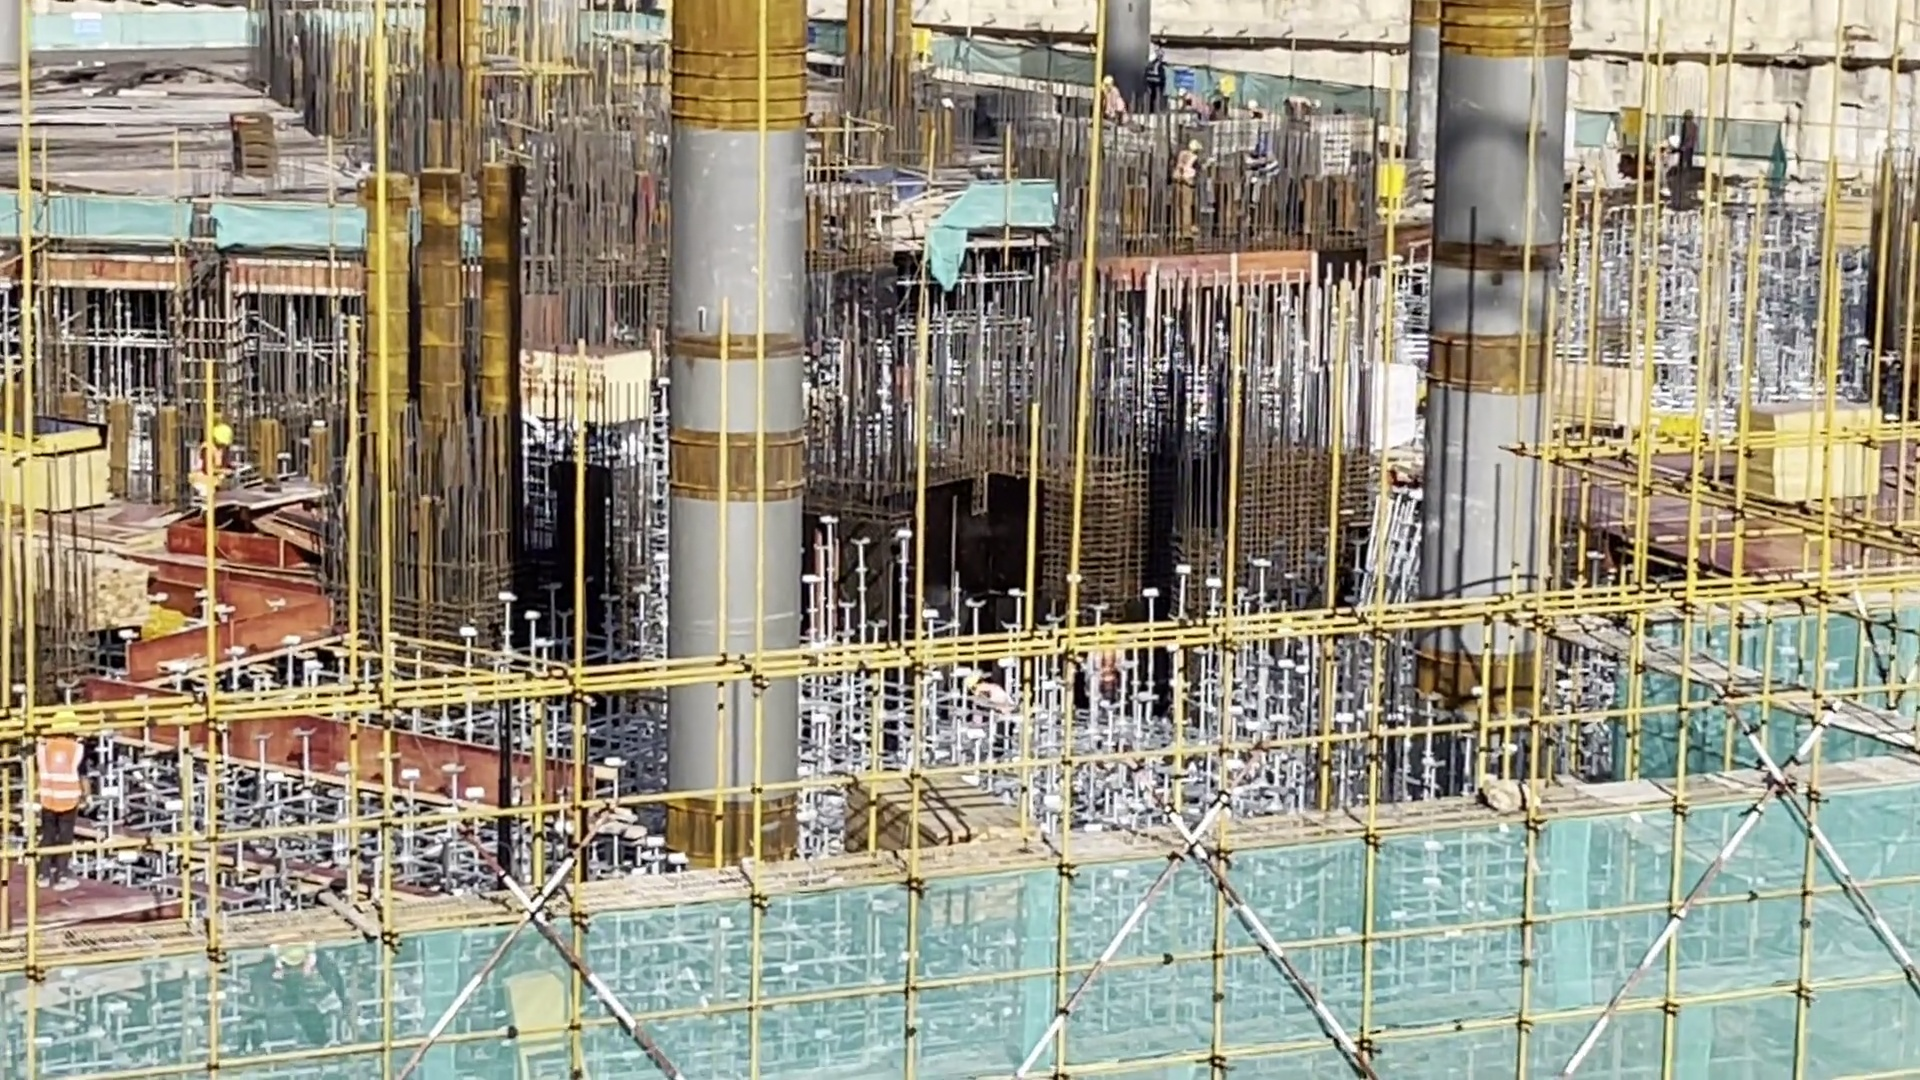board: (851, 769, 1018, 931), (1736, 396, 1878, 537), (1, 412, 121, 534), (531, 332, 649, 434), (1824, 191, 1864, 257)
cutter: (226, 474, 314, 586)
helmet: (51, 704, 76, 729), (1184, 133, 1208, 152), (1177, 84, 1201, 99), (208, 426, 226, 446), (965, 670, 978, 693), (1225, 69, 1238, 87), (1099, 77, 1117, 88), (1156, 46, 1169, 65), (1687, 108, 1702, 121), (1253, 134, 1264, 147), (1669, 135, 1679, 149), (1282, 96, 1291, 109)
person: (21, 696, 107, 883), (967, 666, 1019, 753), (191, 425, 244, 506), (1101, 606, 1139, 700), (1244, 142, 1286, 218), (1679, 98, 1724, 160), (1282, 83, 1327, 132), (1178, 144, 1199, 238), (1650, 128, 1679, 195), (1212, 69, 1242, 125), (1173, 85, 1206, 134), (1095, 72, 1125, 124), (1144, 46, 1169, 105), (1242, 100, 1262, 121)
vest: (46, 734, 93, 816), (983, 689, 1021, 728), (196, 447, 238, 476), (1177, 152, 1199, 183), (1660, 141, 1677, 179), (1140, 64, 1167, 87), (1107, 649, 1124, 684), (1202, 84, 1226, 110), (1295, 94, 1317, 120), (1103, 89, 1123, 113), (1260, 153, 1277, 183), (1681, 121, 1696, 147), (1191, 94, 1204, 120), (1255, 108, 1262, 121)
wood: (26, 507, 191, 621), (1561, 356, 1646, 427)
